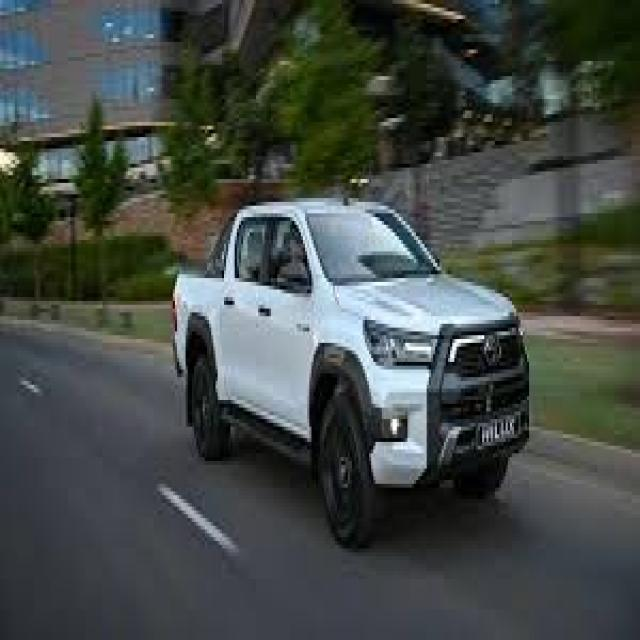Pickup Trucks: (173, 198, 529, 549)
